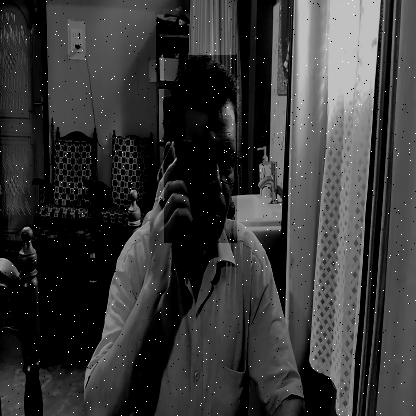Distracted: (164, 55, 237, 243)
